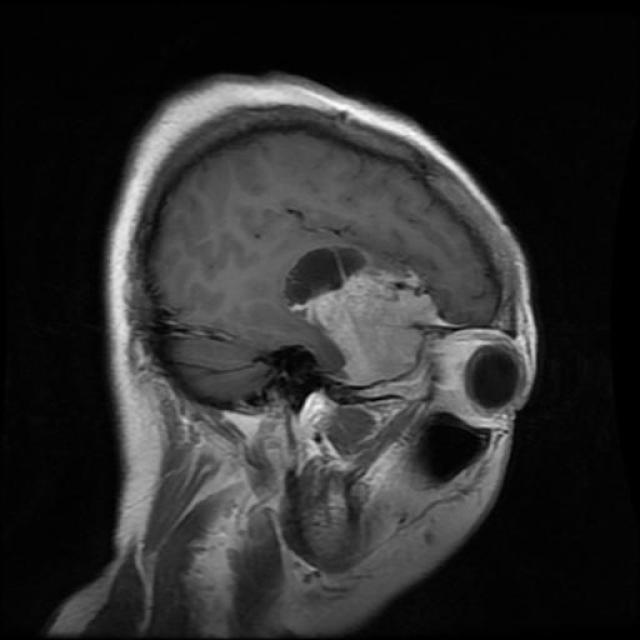meningioma: (304, 266, 452, 386)
